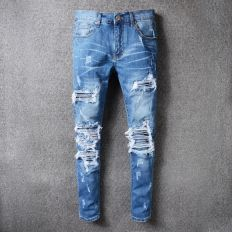jeans: (58, 7, 160, 223)
